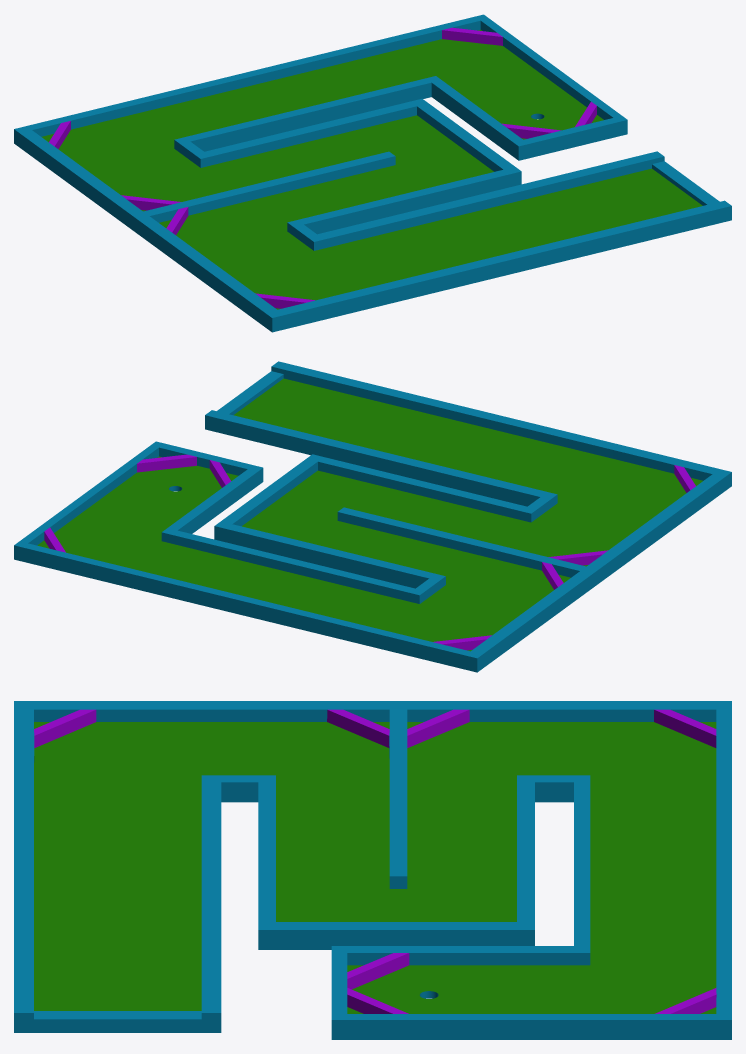
The model's file is Level4.fbx.
3 views of the same model, one above another, from view 1: azimuth 30°, elevation 25°; view 2: azimuth 150°, elevation 25°; view 3: azimuth 270°, elevation 25° (orthographic). The views are drawn at different scales.
Parts seen in each view (by area): view 1: pCube18; view 2: pCube18; view 3: pCube18.
Boxes of the visible parts, <box> form: pCube18: <box>14,14,731,332</box>; pCube18: <box>14,361,731,672</box>; pCube18: <box>14,701,731,1039</box>.
Bounding box in the file's own units: 14.18 × 0.416 × 13.5.
1 material, 1 textured.
